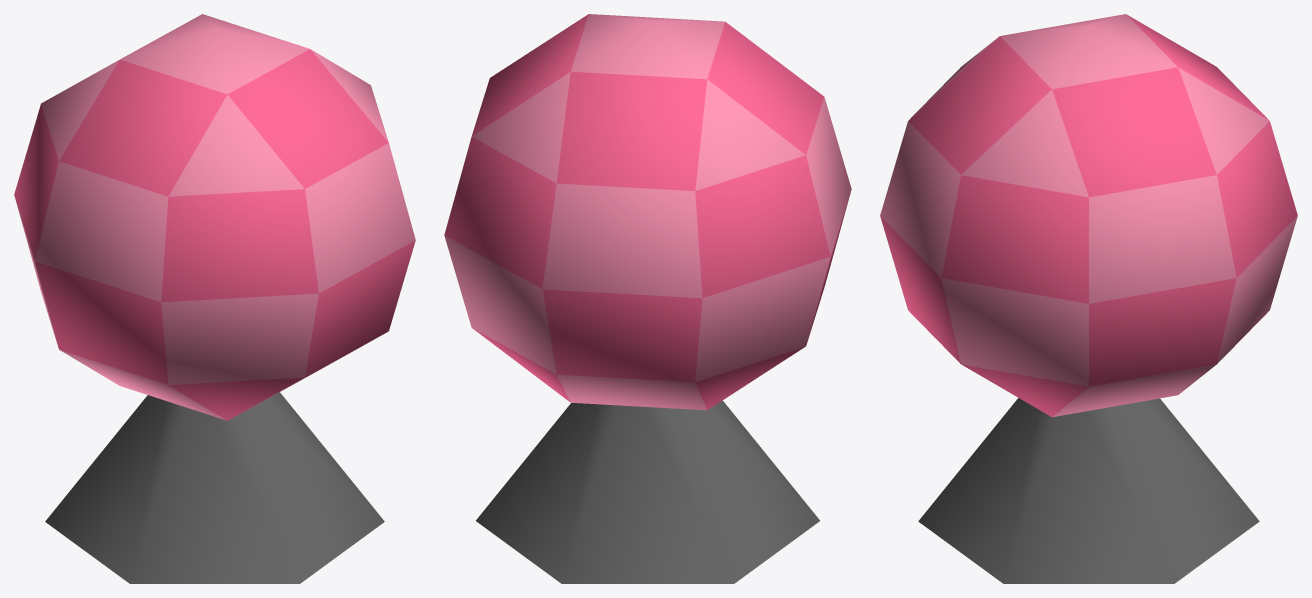
The model's file is prop_087.glb.
3 renders of one model, left to right at view 1: azimuth 30°, elevation 25°; view 2: azimuth 150°, elevation 25°; view 3: azimuth 270°, elevation 25°, orthographic.
Parts seen in each view (by area): view 1: prop_087; view 2: prop_087; view 3: prop_087.
Part boxes in pixels (<box>): prop_087: <box>14,14,415,583</box>; prop_087: <box>444,14,851,583</box>; prop_087: <box>880,14,1297,583</box>.
Size of the model in its own units: 0.247 by 0.3229 by 0.247.
1 material, 1 textured.
